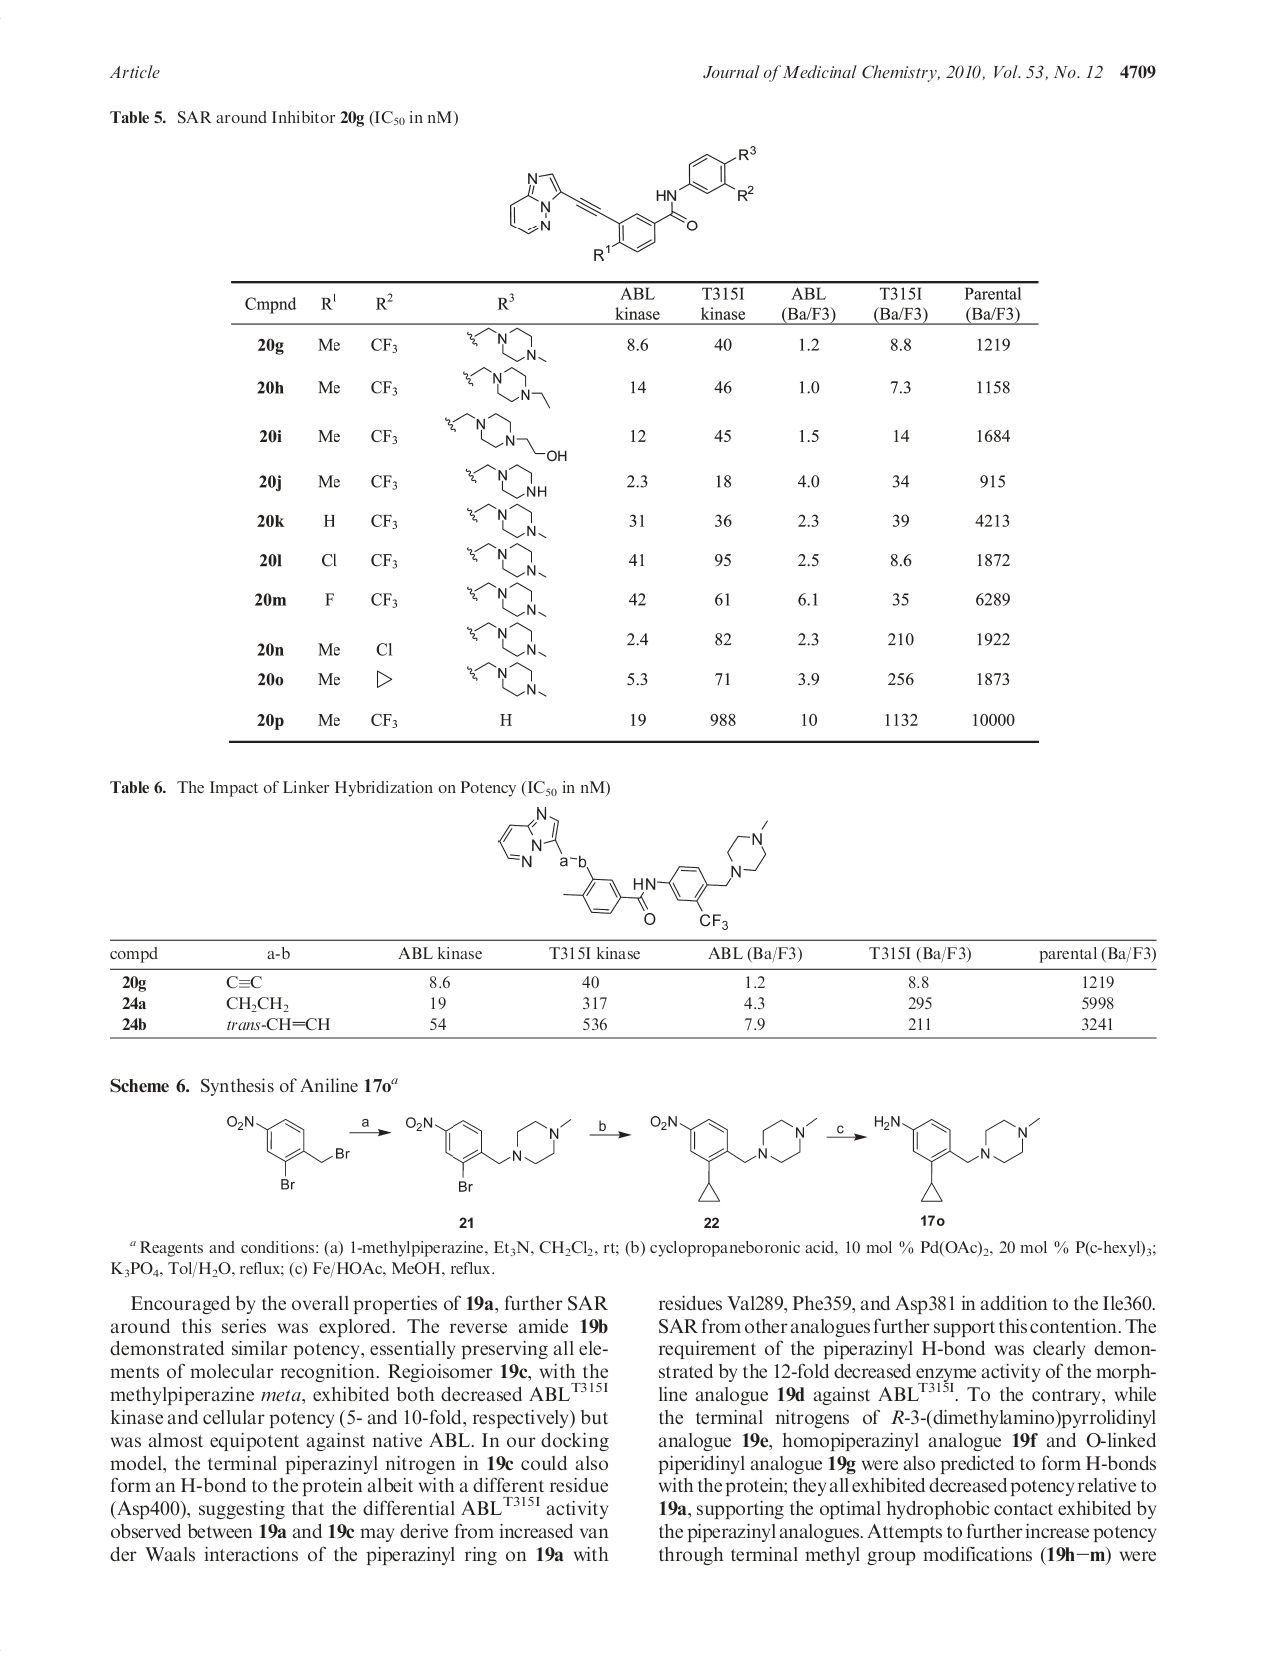exist_molecular: (496, 805, 767, 932), (505, 144, 769, 269), (648, 1113, 817, 1204), (871, 1113, 1041, 1202), (404, 1114, 572, 1193), (222, 1108, 350, 1192), (442, 412, 570, 463), (461, 364, 551, 410), (465, 660, 551, 702), (465, 541, 548, 582), (465, 621, 551, 661), (465, 500, 549, 540), (465, 581, 549, 620), (465, 463, 549, 500), (465, 328, 549, 364)
